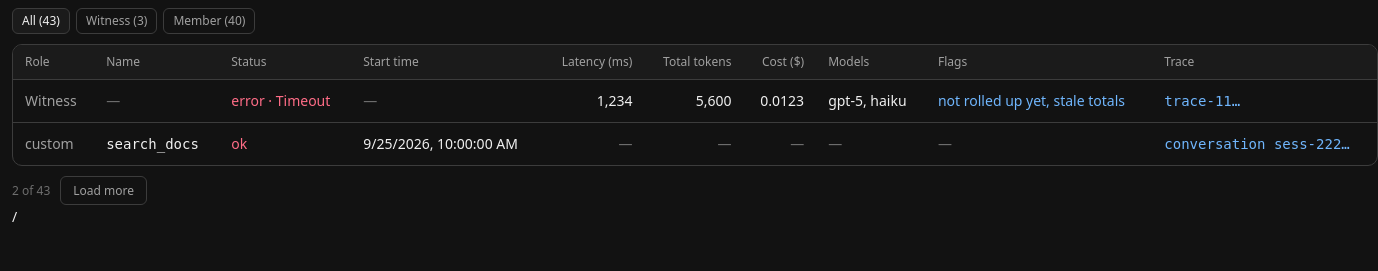
it: EvidenceTable › reads the next page on request, and stops offering once there is none
expect the text "Timeout" is shown: met, box [231,91,330,110]
Click the button "Load more" at (104,190), box [60,176,147,205]
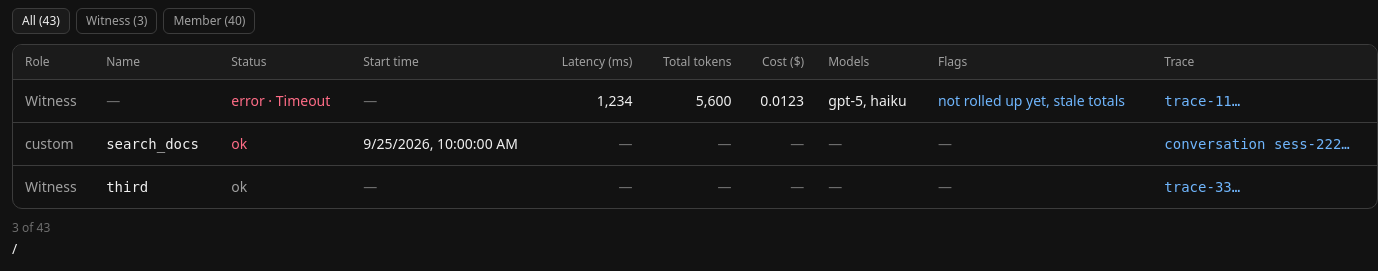
expect the text "third" is shown: met, box [106,179,148,195]
expect the button "Load more" is gone: met
